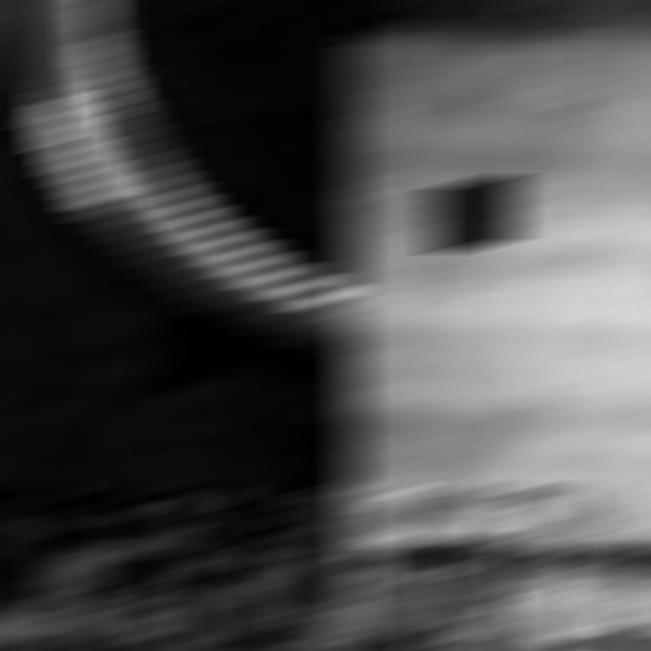Airbag: (0, 2, 360, 486), (0, 490, 360, 649)
